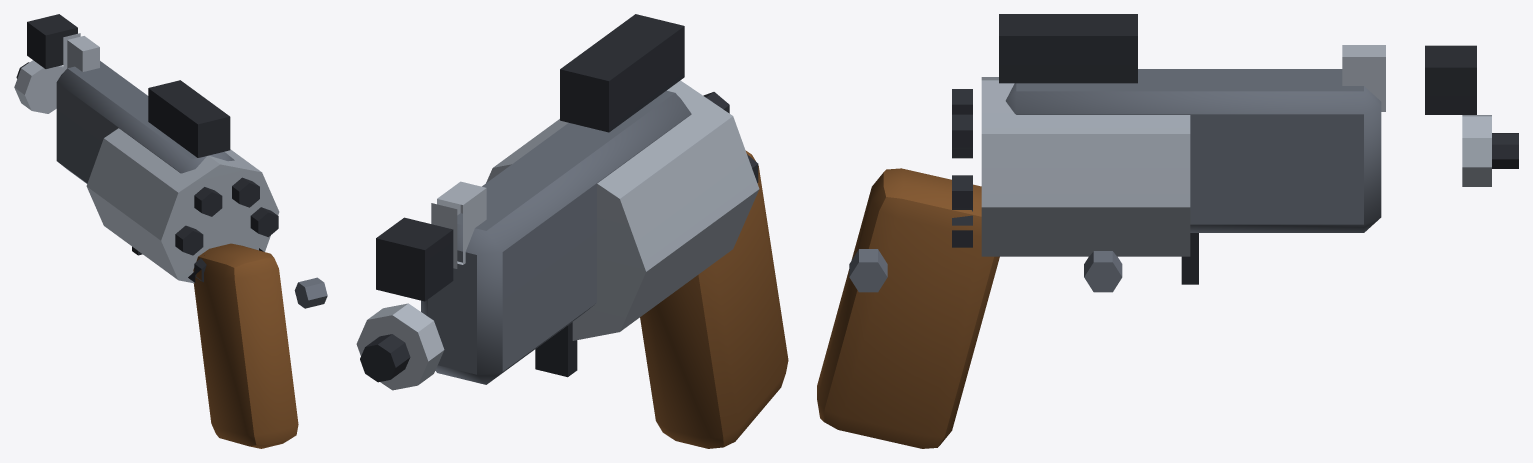
File: item_revolver.glb
3 views of the same model, side by side, from view 1: azimuth 30°, elevation 25°; view 2: azimuth 150°, elevation 25°; view 3: azimuth 270°, elevation 25° (orthographic). The views are drawn at different scales.
Visible parts, largest first — view 1: item_revolver, item_revolver_detail; view 2: item_revolver, item_revolver_detail; view 3: item_revolver, item_revolver_detail.
Part boxes in pixels (bbox=[...]): item_revolver: bbox=[27, 14, 298, 448]; item_revolver_detail: bbox=[14, 33, 327, 308]; item_revolver: bbox=[376, 14, 788, 448]; item_revolver_detail: bbox=[356, 92, 758, 390]; item_revolver: bbox=[817, 14, 1476, 448]; item_revolver_detail: bbox=[849, 45, 1518, 292].
Bounding box in the file's own units: 0.111 × 0.2637 × 0.4035.
